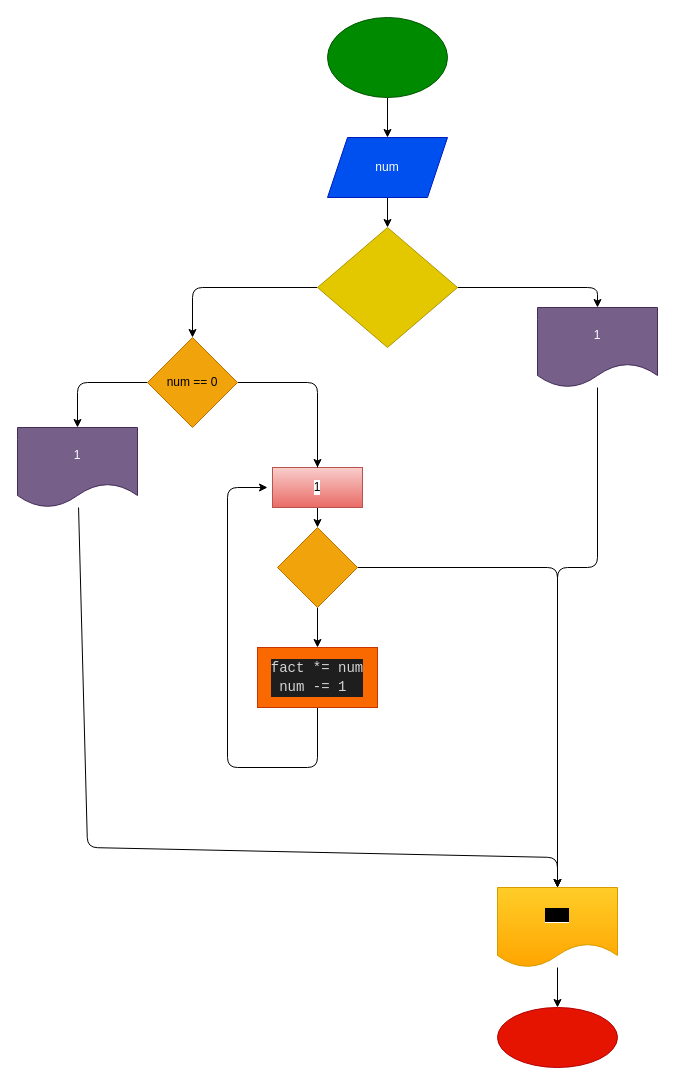
This 675x1085 diagram has some shape labels left out. The shapes that lost their labels are listed below. From the top down, each one's centre as x and y in pixels, then its label:
At (x=387, y=57): "inicio".
At (x=387, y=287): "num < 0".
At (x=317, y=567): "num > 1".
At (x=557, y=1037): "fin".
